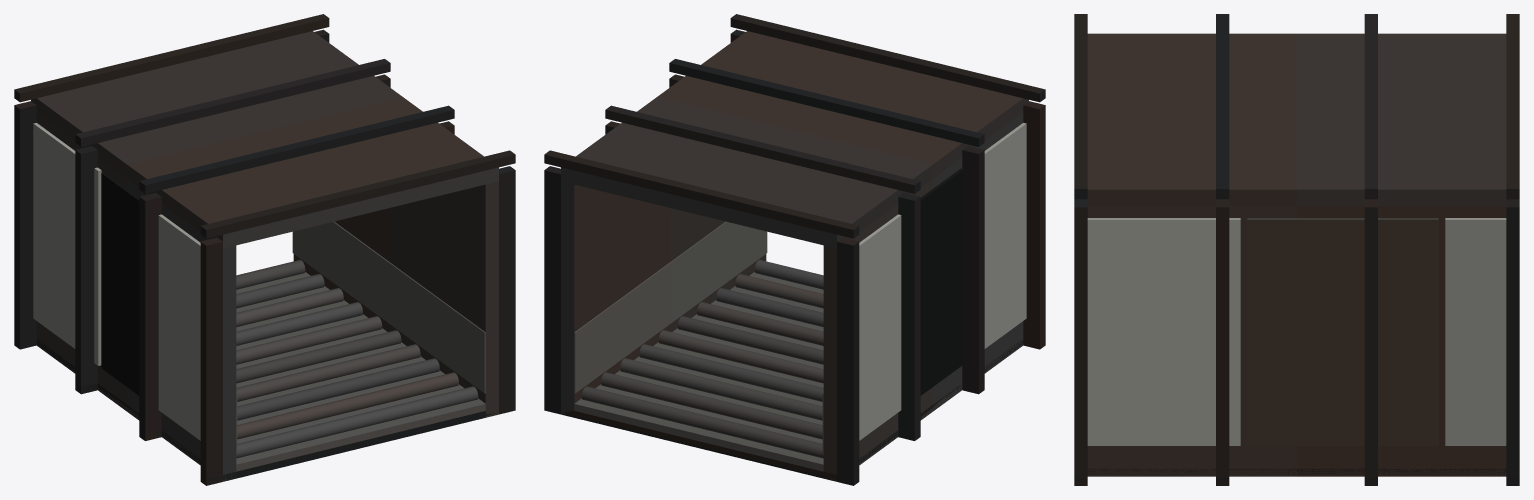
File: chute_h_straight.glb
3 views of the same model, side by side, from view 1: azimuth 30°, elevation 25°; view 2: azimuth 150°, elevation 25°; view 3: azimuth 270°, elevation 25° (orthographic). The views are drawn at different scales.
Parts seen in each view (by area): view 1: Frame; view 2: Frame; view 3: Frame.
Boxes of the visible parts, x1,y1,x2,y2 form: Frame: (14,14,515,485); Frame: (544,14,1045,485); Frame: (1074,14,1519,485).
Bounding box in the file's own units: 1.86 × 1.47 × 2.
